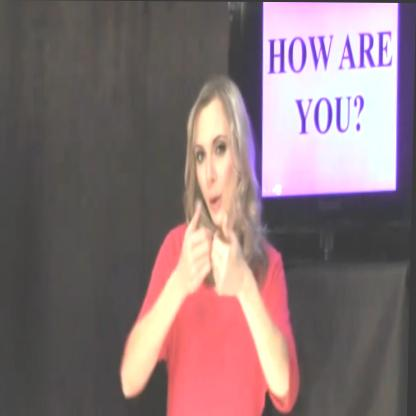HowAreYou: (177, 197, 255, 294)
